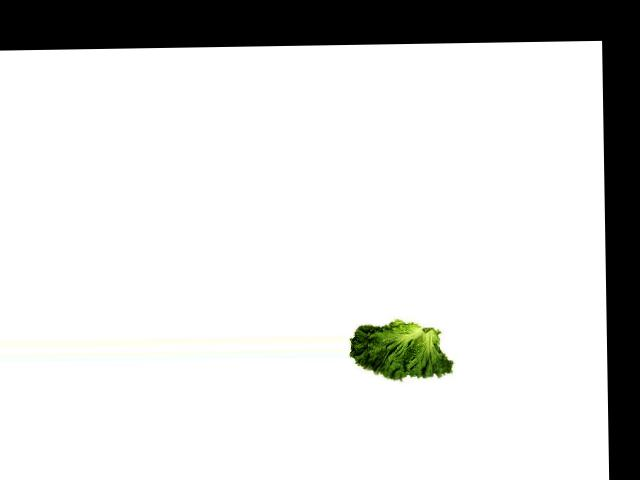lettuce: (348, 315, 452, 388)
